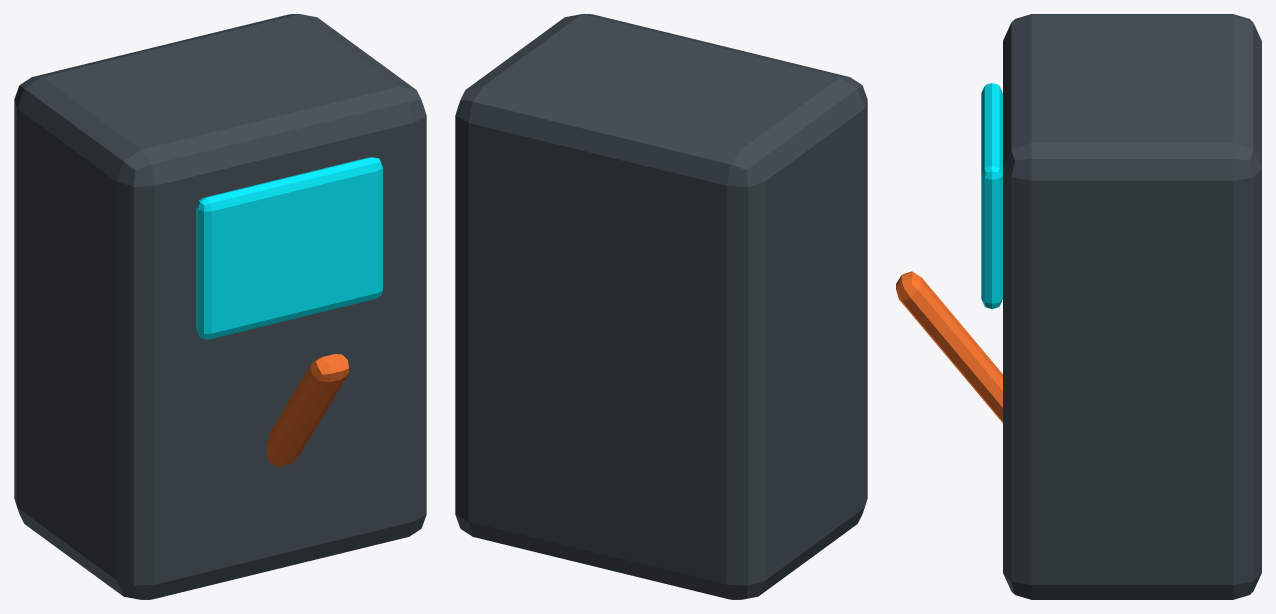
Rendered from LPK_RepairConsole_1m.fbx.
3 renders of one model, left to right at view 1: azimuth 30°, elevation 25°; view 2: azimuth 150°, elevation 25°; view 3: azimuth 270°, elevation 25°, orthographic.
Parts seen in each view (by area): view 1: ConsoleBody, RepairScreen, RepairLeverPivot; view 2: ConsoleBody; view 3: ConsoleBody, RepairLeverPivot, RepairScreen.
Part boxes in pixels (bbox=[...]): ConsoleBody: bbox=[14, 14, 426, 599]; RepairScreen: bbox=[196, 157, 382, 339]; RepairLeverPivot: bbox=[266, 354, 348, 466]; ConsoleBody: bbox=[455, 14, 867, 599]; ConsoleBody: bbox=[1003, 14, 1261, 599]; RepairLeverPivot: bbox=[896, 271, 1002, 422]; RepairScreen: bbox=[981, 83, 1002, 309].
Bounding box in the file's own units: 1 × 1.4 × 1.02.
